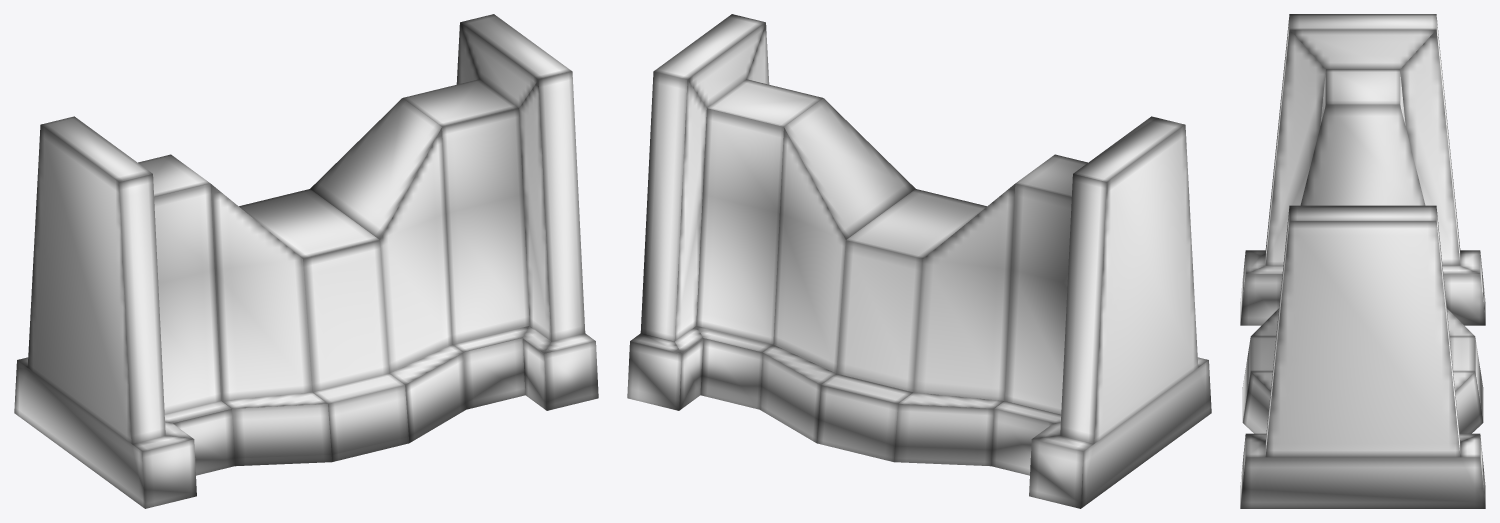
The model's file is Sci-fi-Wall-01.fbx.
3 views of the same model, side by side, from view 1: azimuth 30°, elevation 25°; view 2: azimuth 150°, elevation 25°; view 3: azimuth 270°, elevation 25° (orthographic). The views are drawn at different scales.
Visible parts, largest first — view 1: Sci-fi-Wall; view 2: Sci-fi-Wall; view 3: Sci-fi-Wall.
Part boxes in pixels (left/top/right/bottom): Sci-fi-Wall: left=14, top=14, right=598, bottom=508; Sci-fi-Wall: left=627, top=14, right=1211, bottom=508; Sci-fi-Wall: left=1240, top=14, right=1485, bottom=508.
Size of the model in its own units: 2 by 1.3 by 1.
